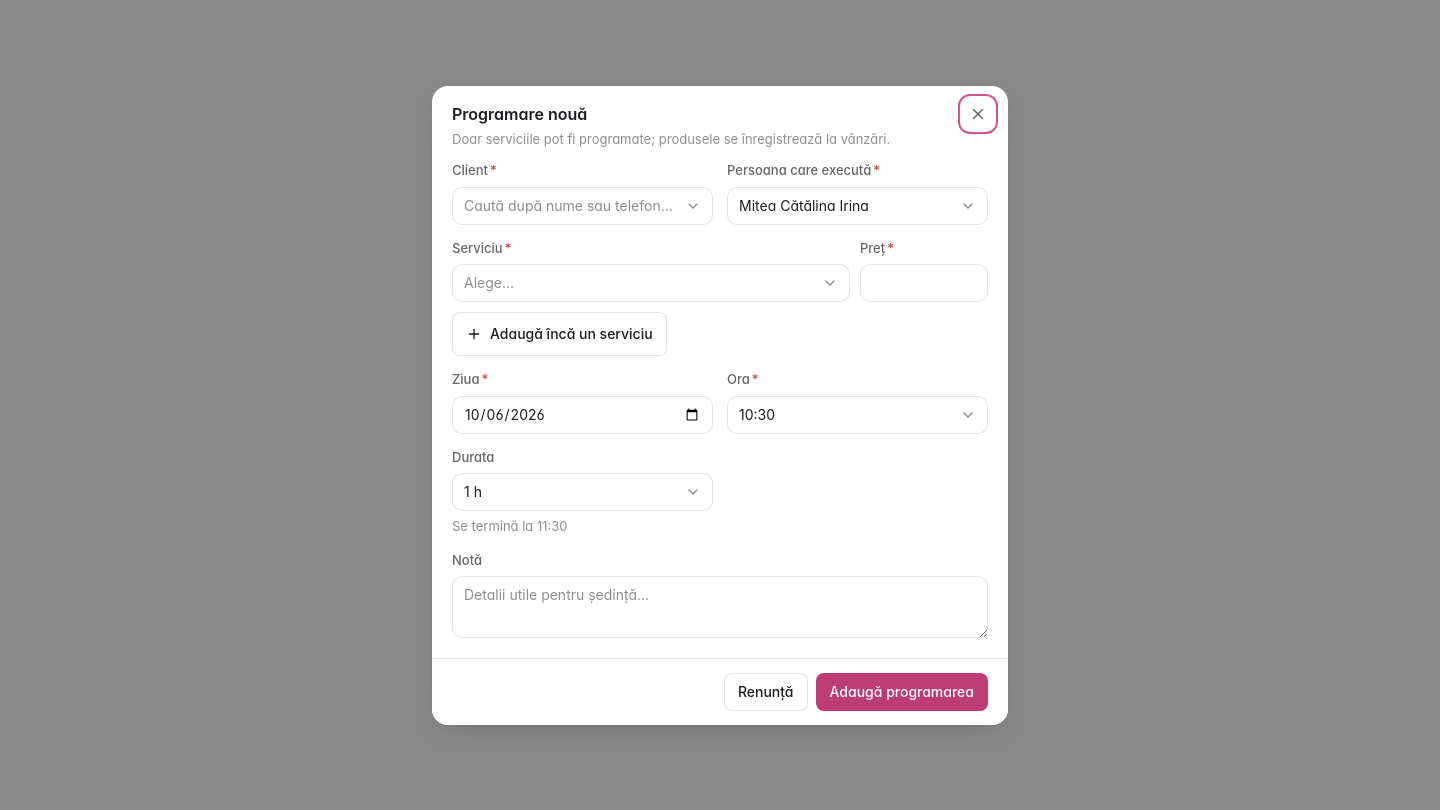
Test: programare nouă din locul apăsat în calendar › ora poate fi și neobișnuită: 09:43, cu durata și sfârșitul după ea
Expected: the date field labelled "Ziua*" is not empty, [452,396,713,434]
# „Altă oră…” schimbă lista într-un câmp de oră, iar minutul exact se scrie.
Select "Altă oră…" in the dropdown labelled "Ora*" at (858, 414), box [727,396,988,434]
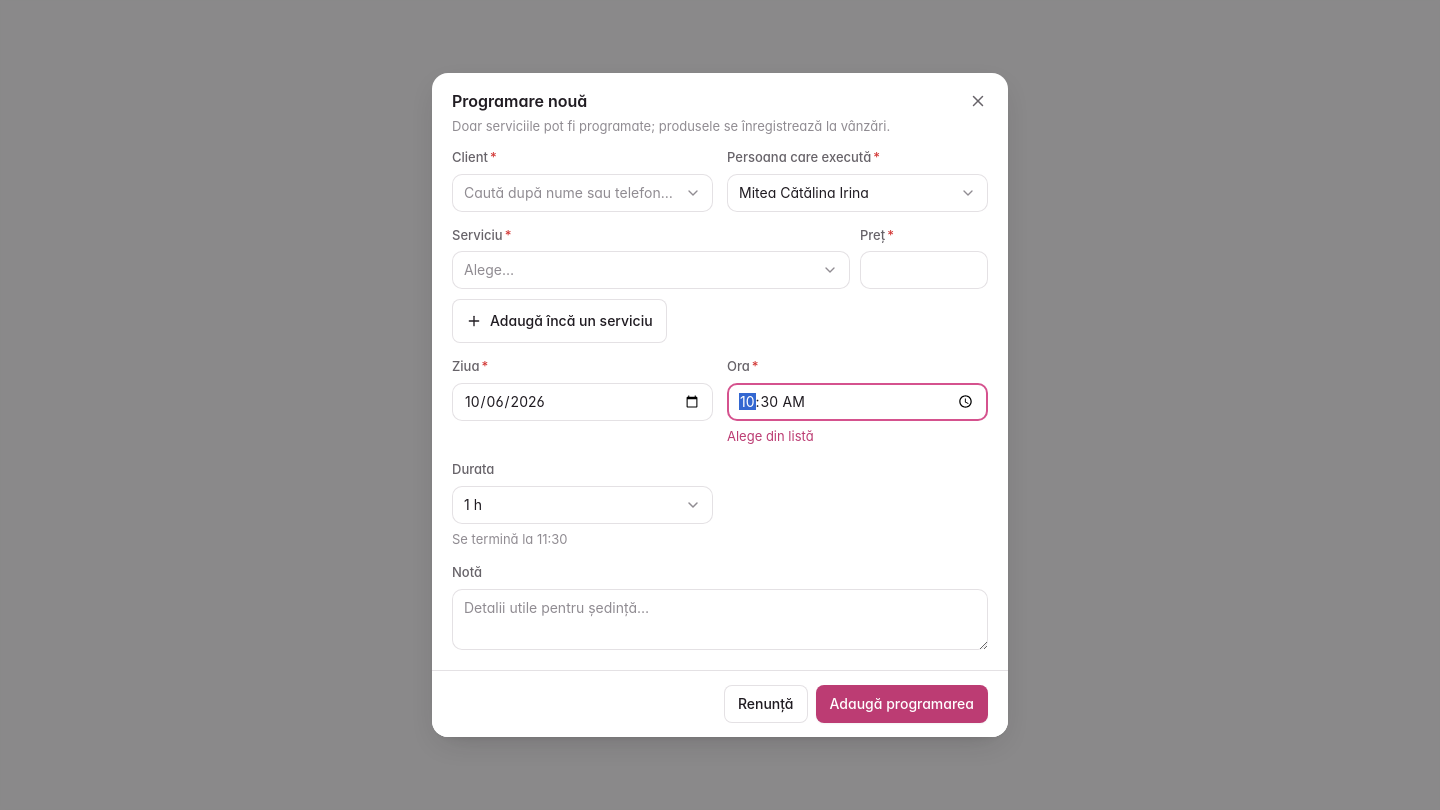
Replace the text in the time field labelled "Ora*" with "09:43" at (858, 402), box [727,383,988,421]
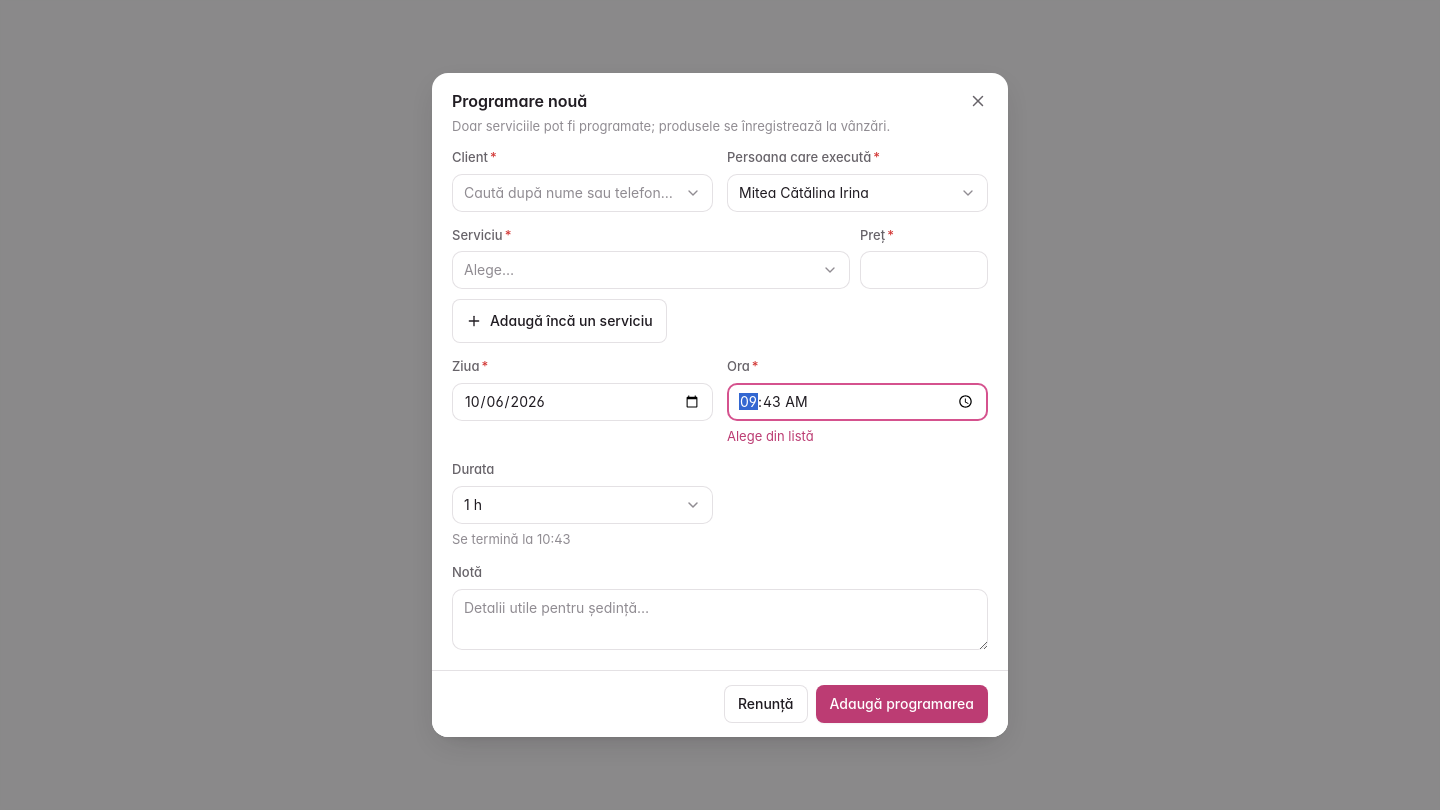
Expected: the text "Se termină la 10:43" is shown, [452,531,571,547]
